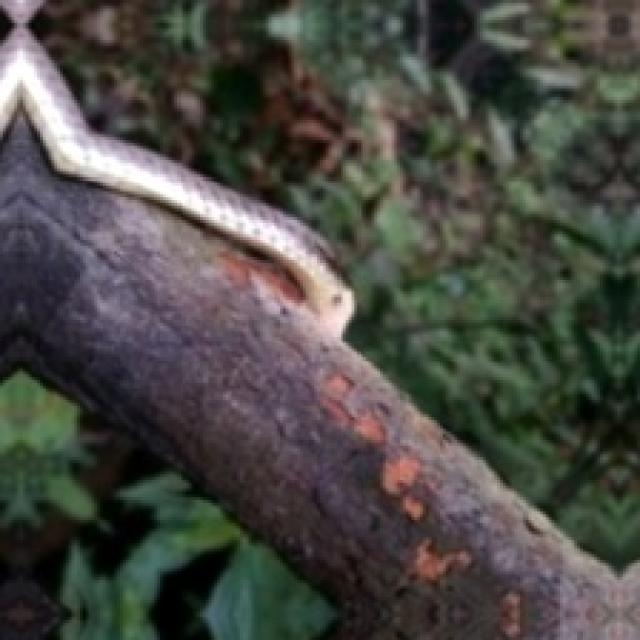paradise tree snake: (0, 0, 351, 334)
